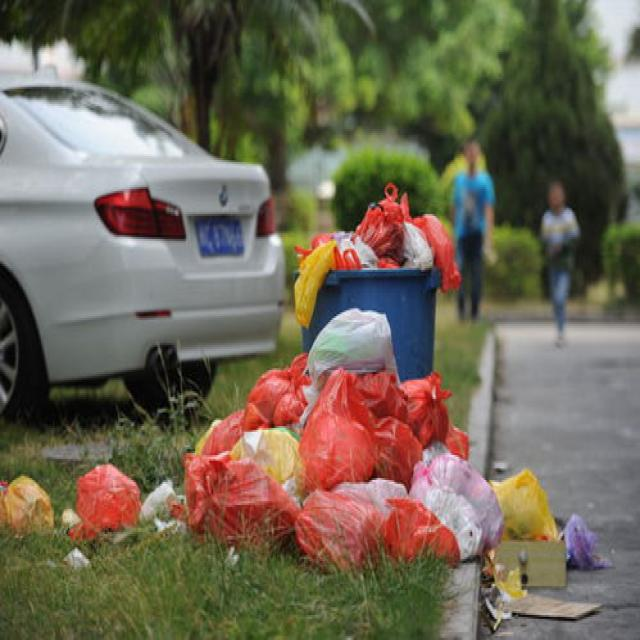garbage: (0, 304, 613, 618)
overflow: (292, 179, 462, 378)
